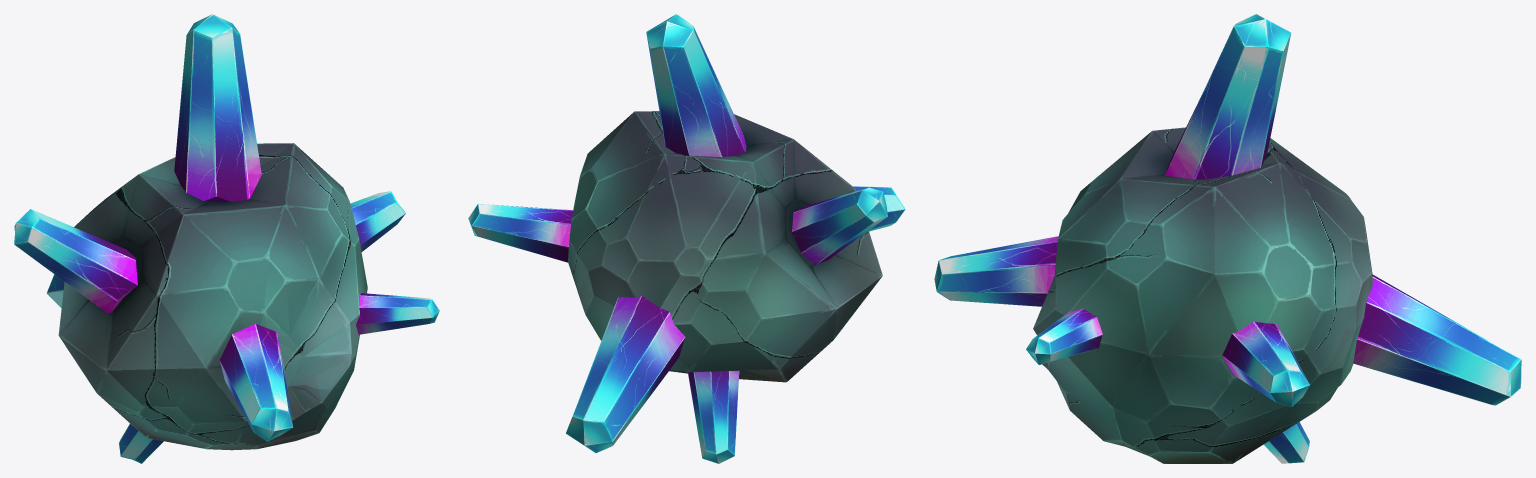
The model's file is asteroid1cooper_oneobject_new.fbx.
3 renders of one model, left to right at view 1: azimuth 30°, elevation 25°; view 2: azimuth 150°, elevation 25°; view 3: azimuth 270°, elevation 25°, orthographic. The views are drawn at different scales.
Visible parts, largest first — view 1: Icosphere; view 2: Icosphere; view 3: Icosphere.
Boxes of the visible parts, box(x1,y1,x2,y2) form: Icosphere: box(14, 14, 439, 463); Icosphere: box(468, 14, 905, 463); Icosphere: box(934, 14, 1521, 463).
Size of the model in its own units: 368 by 374 by 417.
